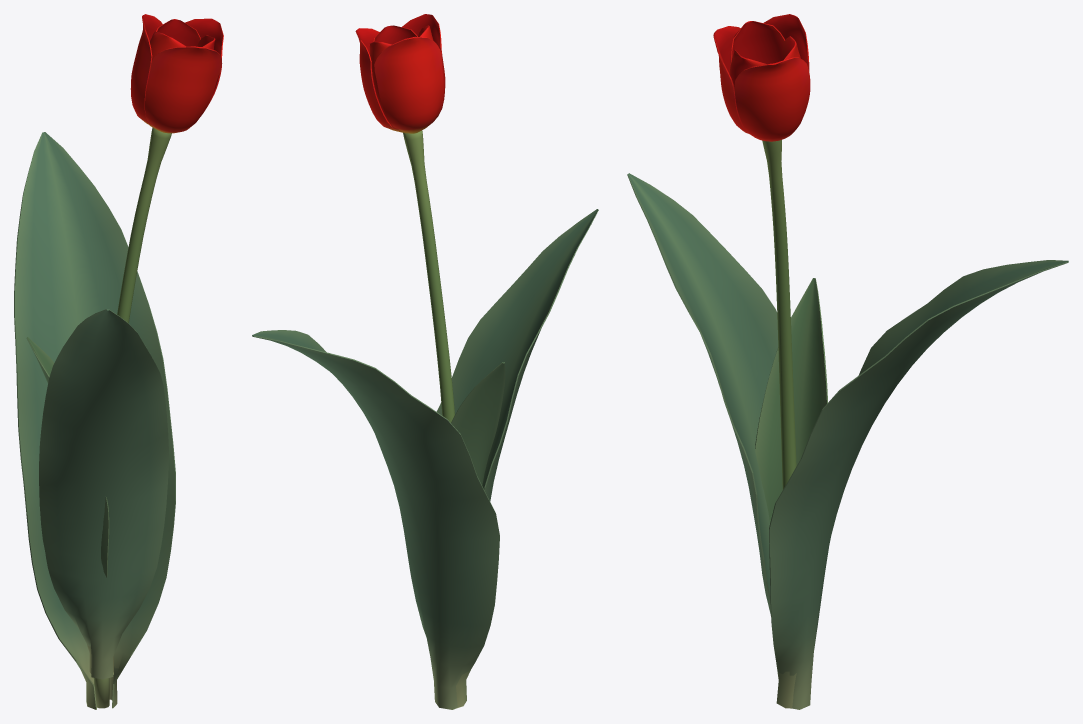
File: opening-red.glb
The picture shows the model from 3 angles, left to right: view 1: azimuth 30°, elevation 25°; view 2: azimuth 150°, elevation 25°; view 3: azimuth 270°, elevation 25°; orthographic projection. The views are drawn at different scales.
Parts seen in each view (by area): view 1: tulip-opening-red; view 2: tulip-opening-red; view 3: tulip-opening-red.
Part boxes in pixels (box(x1,y1,x2,y2)): tulip-opening-red: box(14, 14, 223, 709); tulip-opening-red: box(252, 14, 598, 709); tulip-opening-red: box(627, 14, 1068, 709).
Size of the model in its own units: 0.1068 by 0.3808 by 0.2149.
